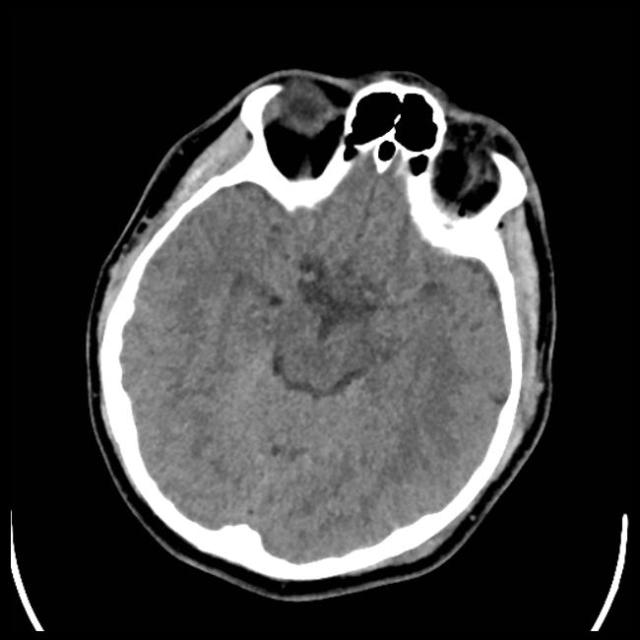lesion: (85, 67, 558, 590)
